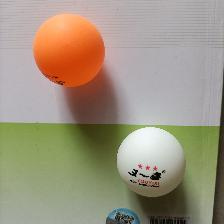WhiteBall: (116, 126, 185, 197)
YellowBall: (32, 12, 105, 88)
